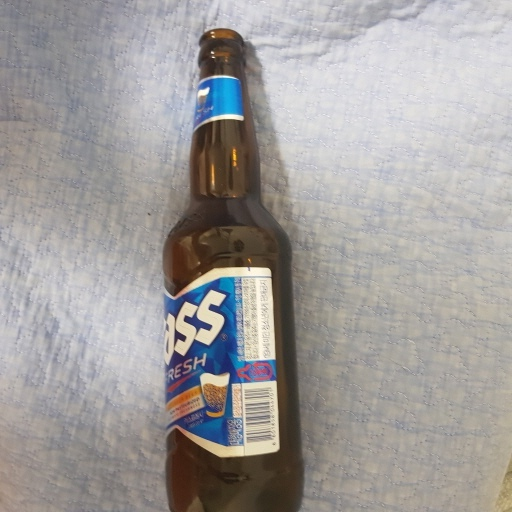Glass_1: (160, 27, 305, 512)
